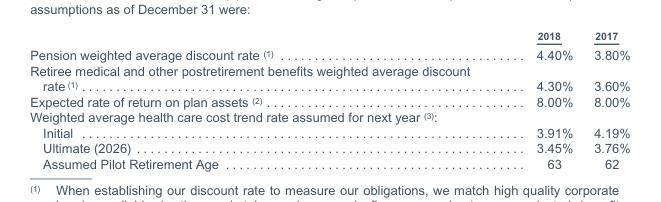table: (29, 29, 629, 170)
table column: (29, 29, 502, 170), (502, 29, 582, 170), (582, 29, 629, 170)
table column header: (29, 29, 629, 44)
table projected row header: (29, 109, 629, 124)
table row: (29, 62, 629, 93), (29, 44, 629, 62), (29, 93, 629, 109), (29, 124, 629, 140), (29, 29, 629, 44), (29, 109, 629, 124), (29, 140, 629, 155), (29, 155, 629, 170)
